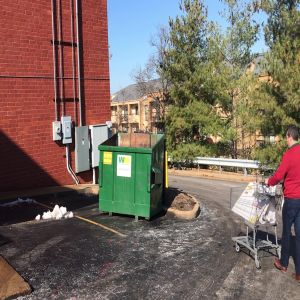Dumpster: (97, 130, 169, 226)
Person: (272, 124, 300, 276)
